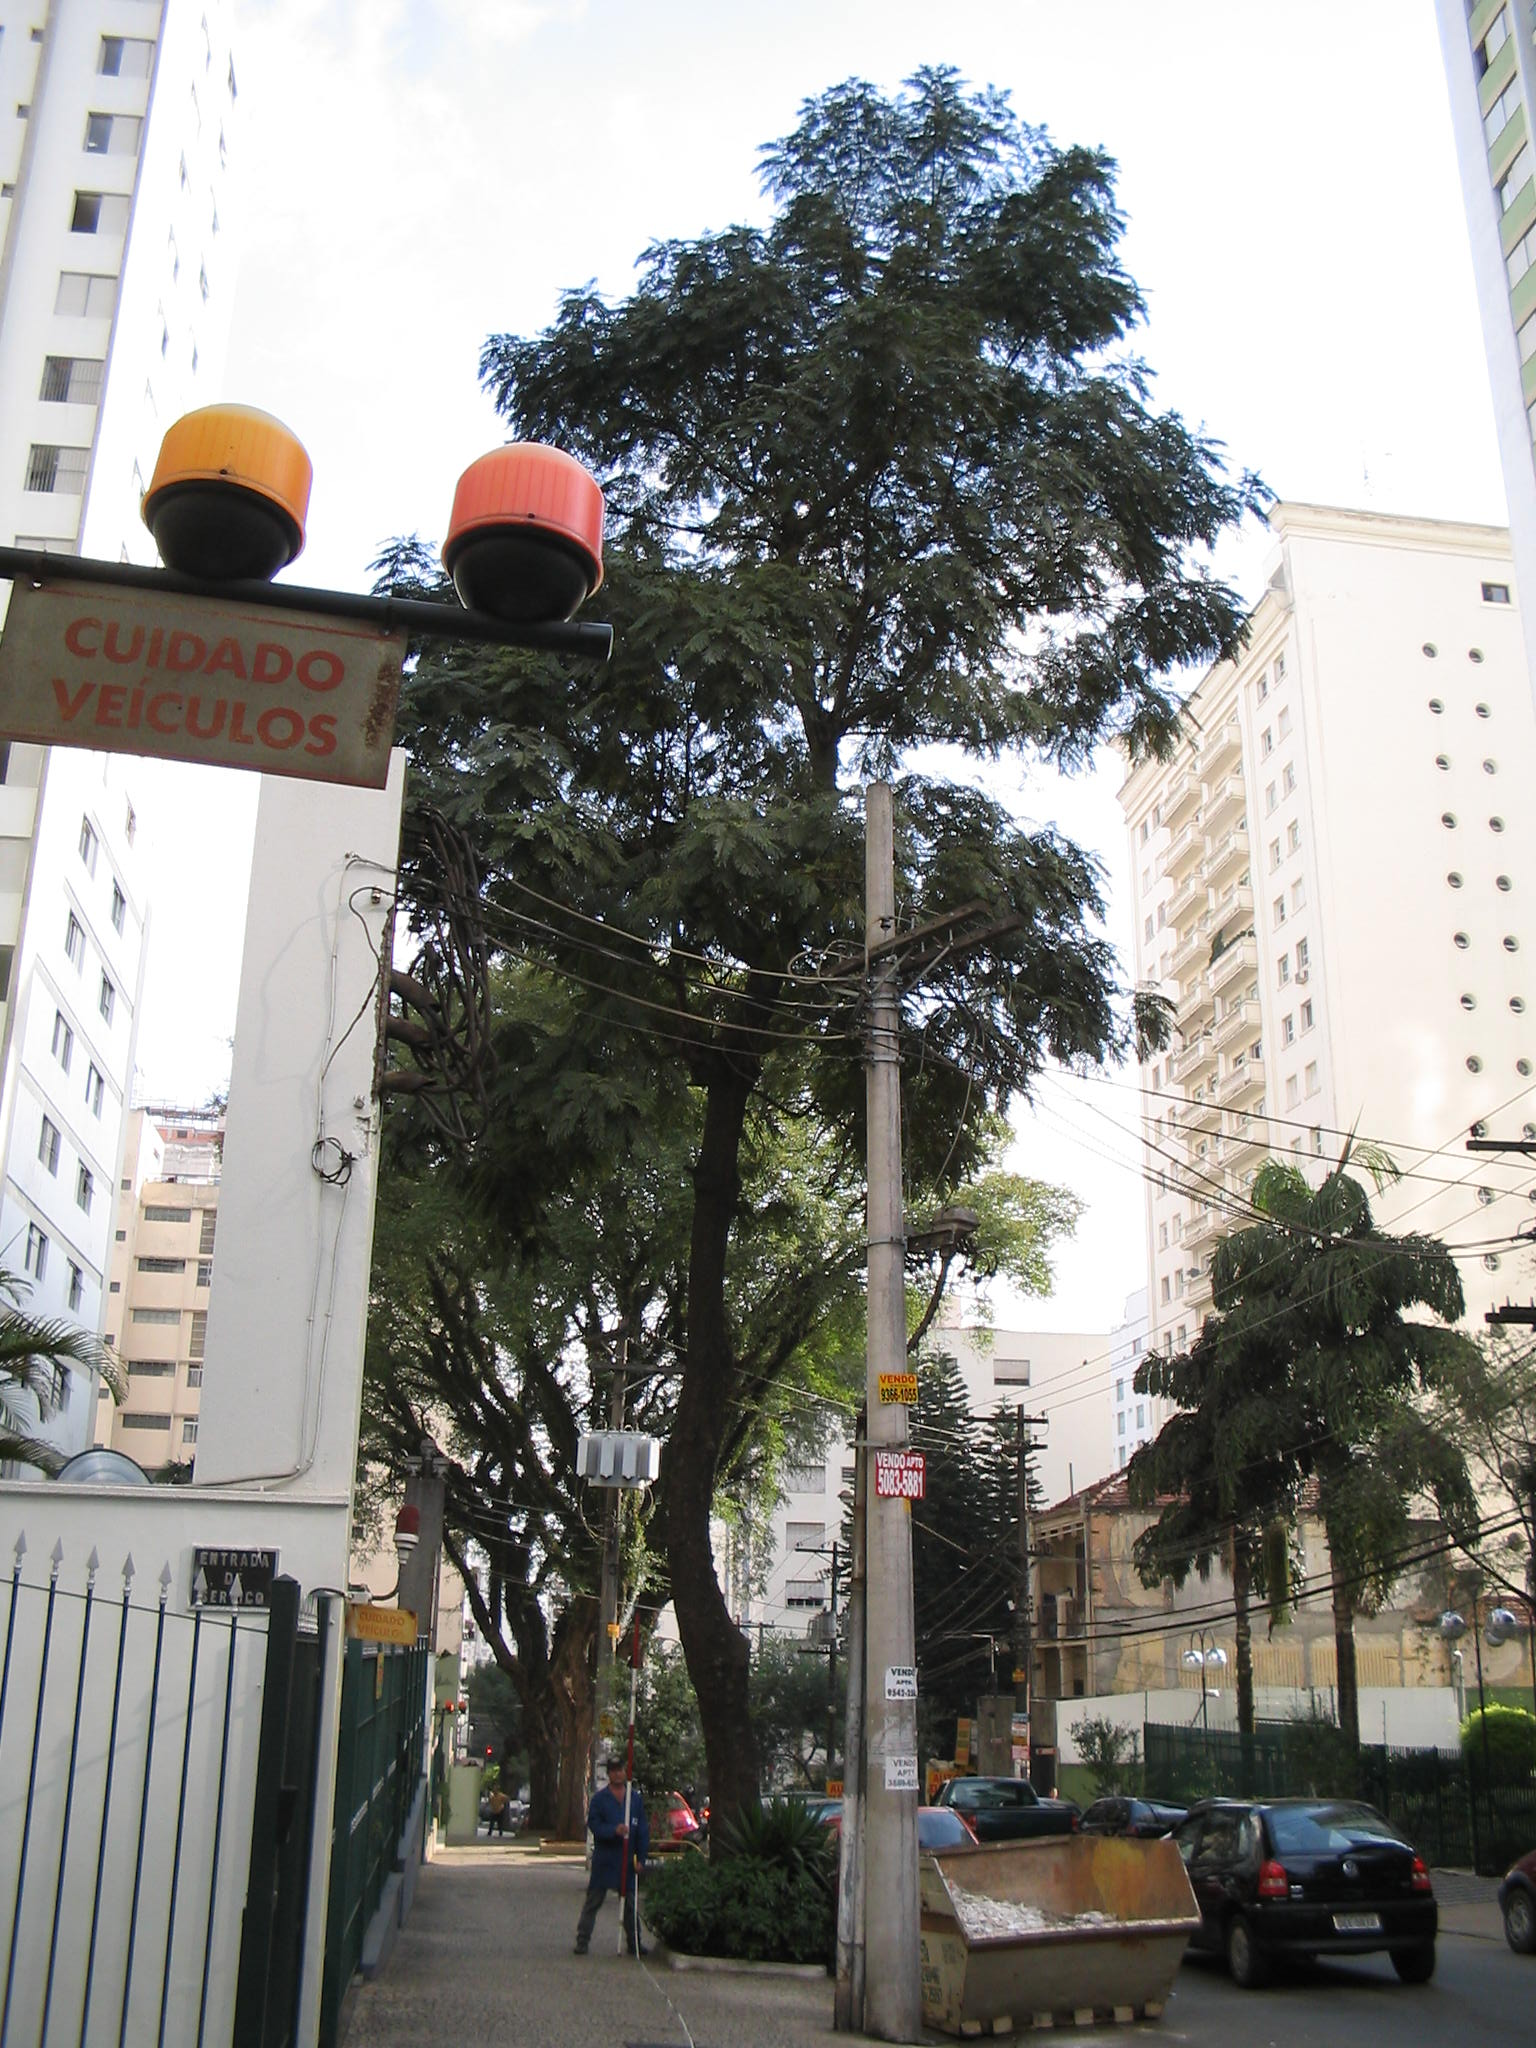crown: (394, 56, 1271, 1085), (1134, 1159, 1491, 1621)
stem: (666, 1553, 808, 1958)
stick: (611, 1611, 657, 1959)
tree: (390, 53, 1279, 1961), (1129, 1155, 1501, 1801)
